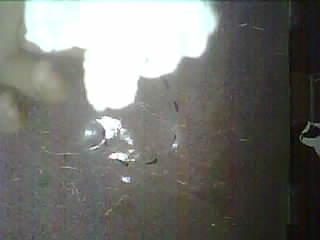paper: (26, 1, 215, 111)
